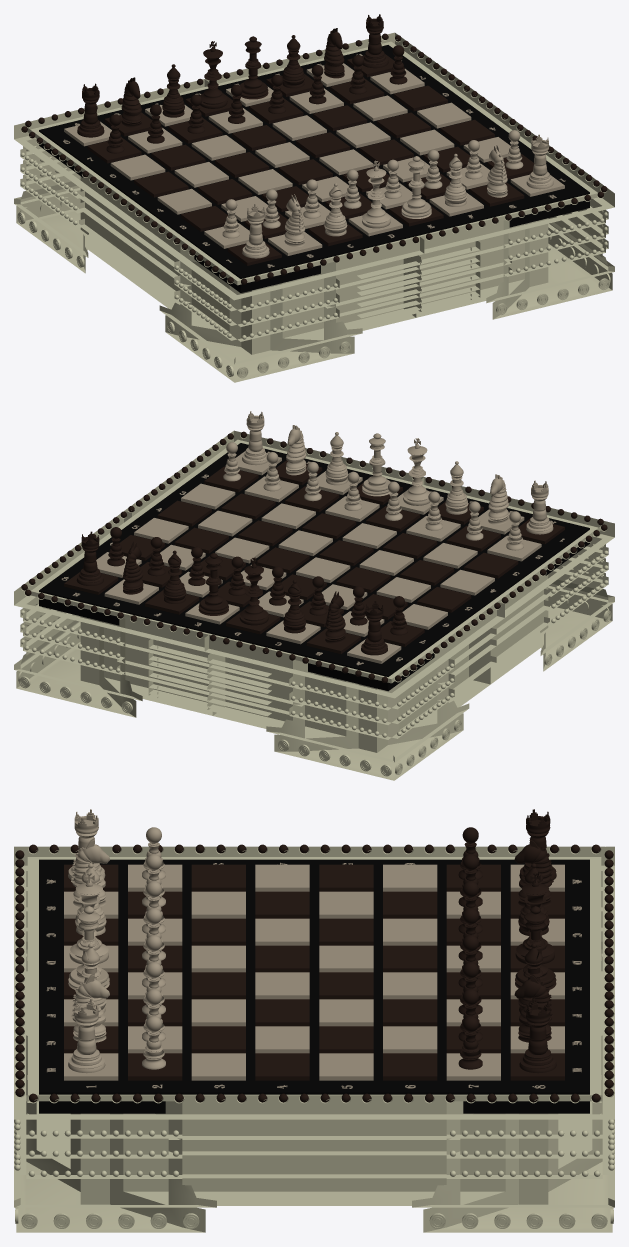
Rendered from ajedrez glb.draco.glb.
3 views of the same model, one above another, from view 1: azimuth 30°, elevation 25°; view 2: azimuth 150°, elevation 25°; view 3: azimuth 270°, elevation 25° (orthographic). The views are drawn at different scales.
Parts seen in each view (by area): view 1: tahta_2, Cube001, Cube, Sphere001, piyon001, piyon, Plane, sah, sah001, vezir, vezir001, kale (+11 smaller); view 2: tahta_2, Cube001, Cube, Sphere001, piyon, piyon001, Plane, sah001, sah, vezir001, vezir, kale002 (+11 smaller); view 3: tahta_2, Cube001, Cube, Plane, Sphere001, piyon001, piyon, kale001, kale003, vezir001, vezir, at002 (+11 smaller).
Boxes of the visible parts, x1,y1,x2,y2 form: tahta_2: (14,32,614,382); Cube001: (64,53,564,265); Cube: (39,45,589,292); Sphere001: (21,33,607,284); piyon001: (106,45,407,153); piyon: (222,130,523,238); Plane: (30,41,597,280); sah: (362,160,390,228); sah001: (200,41,227,108); vezir: (401,156,431,218); vezir001: (239,36,268,99); kale: (242,204,269,258); tahta_2: (14,430,614,780); Cube001: (64,450,564,663); Cube: (39,443,589,691); Sphere001: (21,431,607,682); piyon: (223,442,523,550); piyon001: (107,527,407,635); Plane: (31,439,598,679); sah001: (239,557,268,625); sah: (403,438,430,505); vezir001: (198,553,228,615); vezir: (362,433,390,496); kale002: (361,601,387,655); tahta_2: (14,846,614,1232); Cube001: (64,864,564,1080); Cube: (39,859,589,1113); Plane: (27,857,601,1095); Sphere001: (15,844,613,1102); piyon001: (458,827,482,1069); piyon: (142,827,165,1069); kale001: (68,999,105,1073); kale003: (519,998,556,1073); vezir001: (515,906,556,989); vezir: (68,906,109,989); at002: (514,838,553,906).
Bounding box in the file's own units: 1.17 × 0.47 × 1.17.
